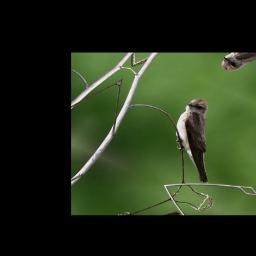Swallow: (144, 95, 256, 186)
